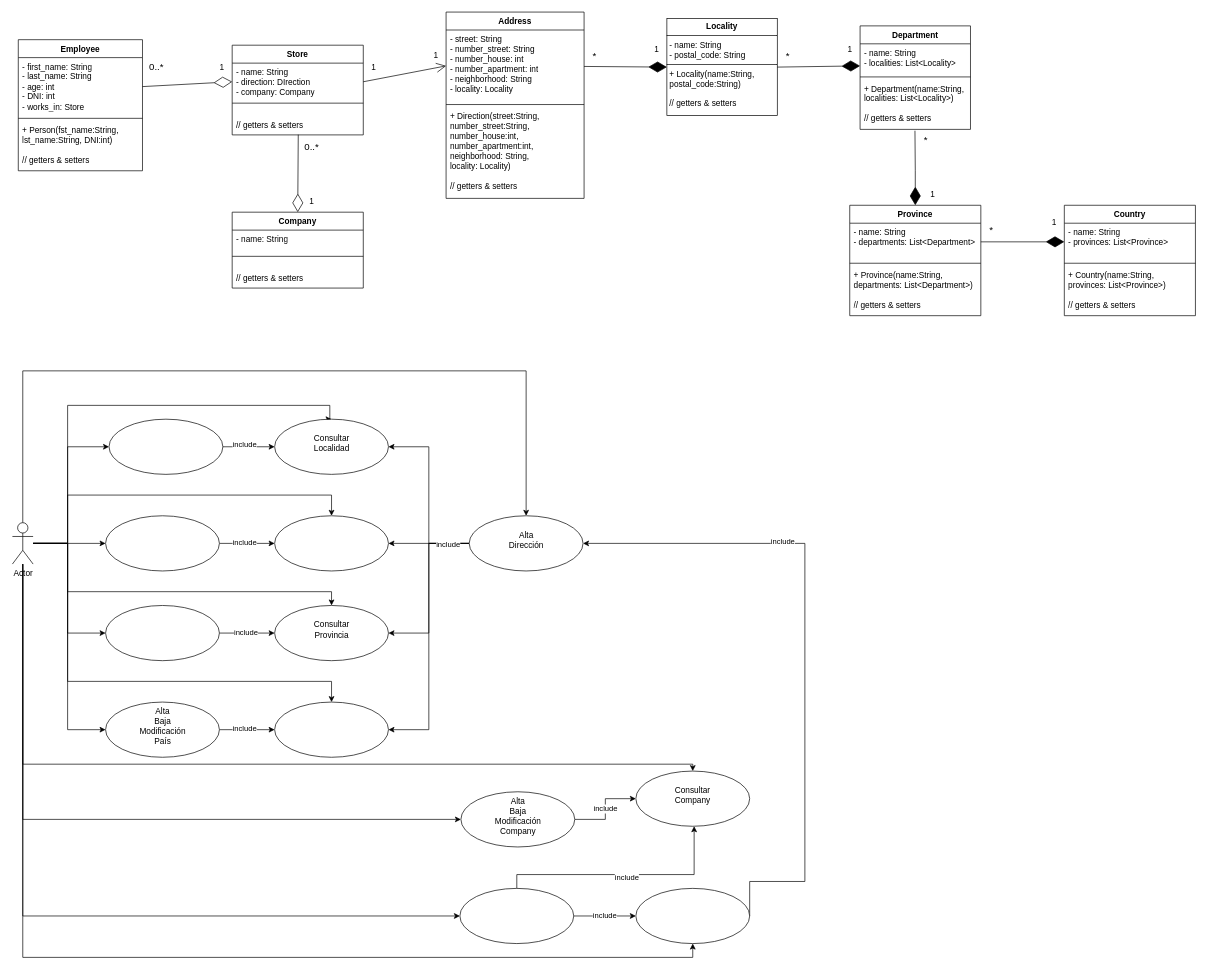
Some shapes in this 1208 by 975 pixel diagram are drawn without their labels. The shapes that lost their labels are listed below. From the top down, each one's centre as x and y in pixels, then its label:
At (165,446): "Alta Baja Modificación Localidad".
At (162,543): "Alta Baja Modificación Departamento".
At (331,543): "Consultar Departamentos".
At (162,633): "Alta Baja Modificación Provincia".
At (331,729): "Consultar País".
At (516,916): "Alta Baja Modificación Store".
At (692,916): "Consultar Store".
